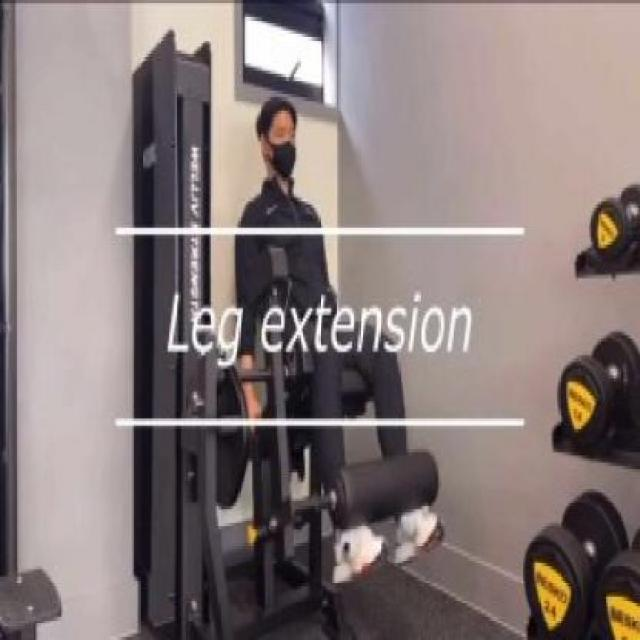leg extension: (122, 17, 449, 638)
